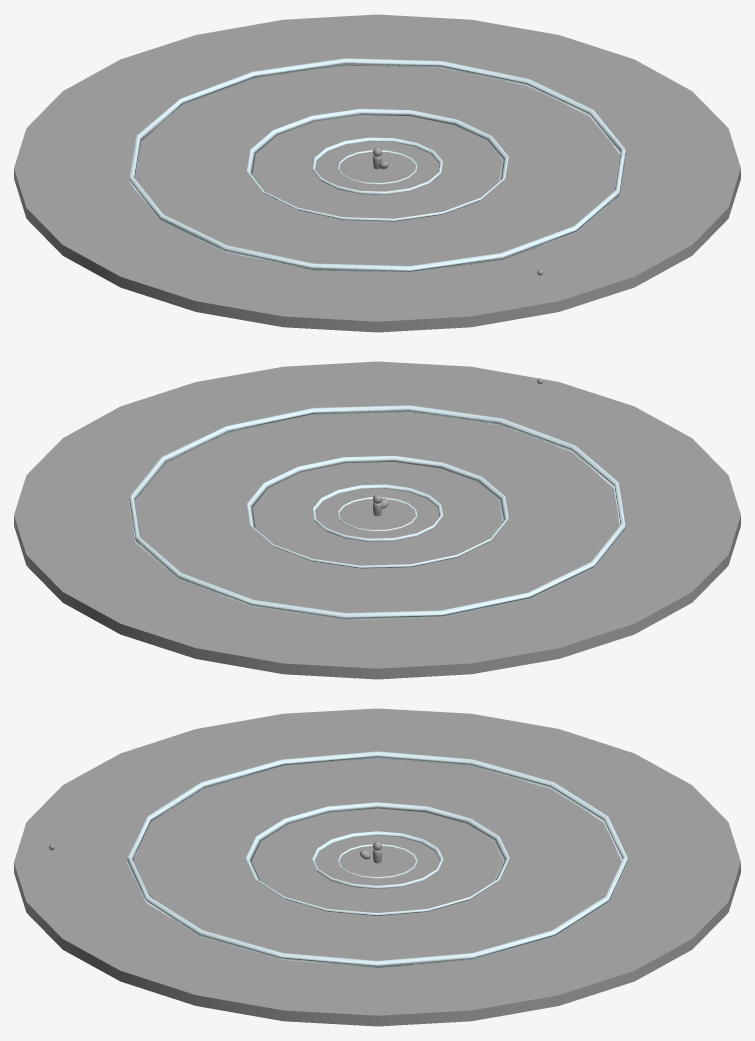
The model's file is size.fbx.
3 views of the same model, one above another, from view 1: azimuth 30°, elevation 25°; view 2: azimuth 150°, elevation 25°; view 3: azimuth 270°, elevation 25° (orthographic).
Visible parts, largest first — view 1: pCylinder3, pCylinder1, size, rangeSize3, rangeSize1, rangeSize; view 2: pCylinder3, pCylinder1, size, rangeSize3, rangeSize1, rangeSize; view 3: pCylinder3, pCylinder1, size, rangeSize3, rangeSize1, rangeSize.
Part boxes in pixels (<box>): pCylinder3: <box>14,14,740,332</box>; pCylinder1: <box>136,65,618,265</box>; size: <box>28,14,740,308</box>; rangeSize3: <box>129,58,625,272</box>; rangeSize1: <box>246,108,508,221</box>; rangeSize: <box>312,137,442,194</box>; pCylinder3: <box>14,361,740,679</box>; pCylinder1: <box>136,412,618,612</box>; size: <box>14,365,739,632</box>; rangeSize3: <box>130,405,625,619</box>; rangeSize1: <box>246,455,508,568</box>; rangeSize: <box>312,484,442,541</box>; pCylinder3: <box>14,708,740,1026</box>; pCylinder1: <box>135,759,619,960</box>; size: <box>14,708,740,1001</box>; rangeSize3: <box>128,751,627,967</box>; rangeSize1: <box>245,802,509,916</box>; rangeSize: <box>311,831,443,888</box>.
Bounding box in the file's own units: 60 × 2.82 × 60.
